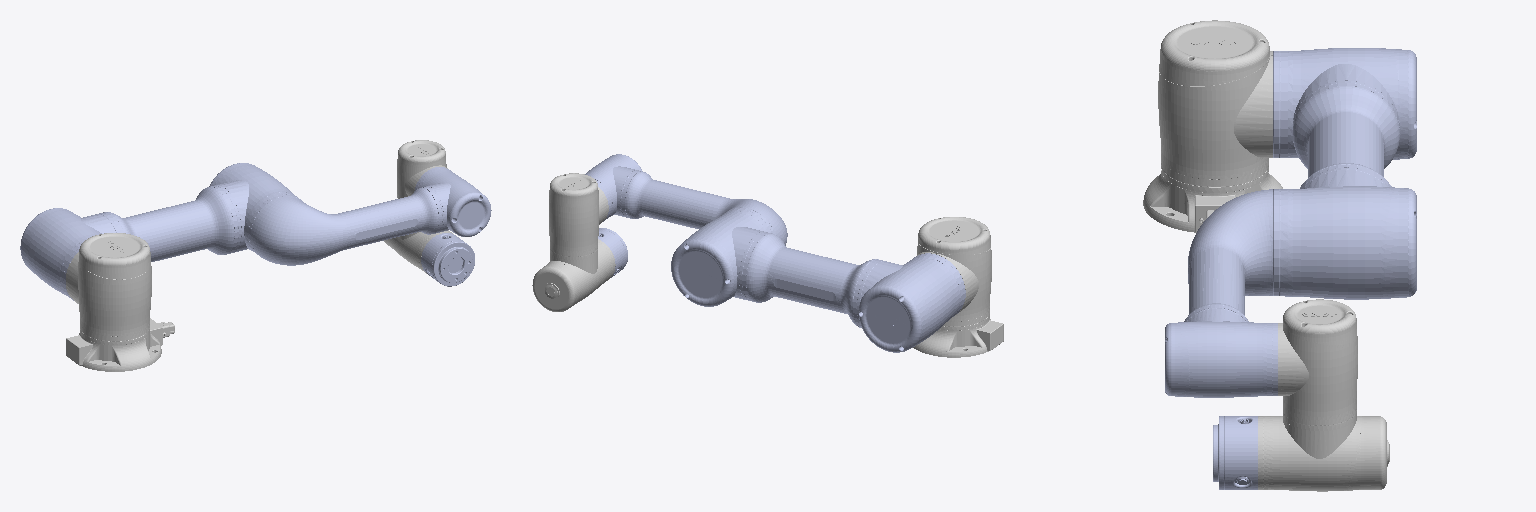
URDF robot description (jaka_s7):
<?xml version="1.0" encoding="utf-8"?>
<!-- This URDF was automatically created by SolidWorks to URDF Exporter! Originally created by [author] ([email redacted]) 
     Commit Version: 1.6.0-4-g7f85cfe  Build Version: 1.6.7995.38578
     For more information, please see http://wiki.ros.org/sw_urdf_exporter -->
<robot
  name="jaka_s7">

     <!-- LINK -->
  <link name="world" />

  <link
    name="Link_00">
    <inertial>
      <origin
        xyz="0.0028167 -0.00019454 0.019544"
        rpy="0 0 0" />
      <mass
        value="0.52663" />
      <!-- <inertia
        ixx="0.0006297"
        ixy="6.7091E-08"
        ixz="3.4682E-06"
        iyy="0.00095727"
        iyz="2.4476E-07"
        izz="0.0014514" /> -->
        <inertia ixx="0.0048763" ixy="-1.8056E-07" ixz="2.5196E-05" iyy="0.0068003" iyz="-1.7678E-09" izz="0.010618" />
    </inertial>
    
    <visual>
      <origin
        xyz="0 0 0"
        rpy="0 0 0" />
      <geometry>
        <mesh
          filename="package://jaka_description/meshes/jaka_s7_meshes/Link_00.STL" />
      </geometry>
      <material
        name="">
        <color
          rgba="0.84706 0.84706 0.84706 1" />
      </material>
    </visual>
    <collision>
      <origin
        xyz="0 0 0"
        rpy="0 0 0" />
      <geometry>
        <mesh
          filename="package://jaka_description/meshes/jaka_s7_meshes/Link_00.STL" />
      </geometry>
    </collision>
  </link>

  <link
    name="Link_01">
    <inertial>
      <origin
        xyz="-2.5186E-07 0.0033226 -0.001509"
        rpy="0 0 0" />
      <mass
        value="15.135" />
      <inertia ixx="0.044302" ixy="1.5349E-07" ixz="-6.1966E-07" iyy="0.043091" iyz="1.4326E-05" izz="0.030523" />
    </inertial> 
    
    <visual>
      <origin
        xyz="0 0 0"
        rpy="0 0 0" />
      <geometry>
        <mesh
          filename="package://jaka_description/meshes/jaka_s7_meshes/Link_01.STL" />
      </geometry>
      <material
        name="">
        <color
          rgba="0.84706 0.84706 0.84706 1" />
      </material>
    </visual>
    <collision>
      <origin
        xyz="0 0 0"
        rpy="0 0 0" />
      <geometry>
        <mesh
          filename="package://jaka_description/meshes/jaka_s7_meshes/Link_01.STL" />
      </geometry>
    </collision>
  </link>

  <link
    name="Link_02">
    <inertial>
      <origin
        xyz="5.5172E-08 0.18004 -0.14306"
        rpy="0 0 0" />
      <mass
        value="5.459" />
      <!-- <inertia
        ixx="0.14154"
        ixy="1.8956E-07"
        ixz="-1.8902E-08"
        iyy="0.012901"
        iyz="-9.5532E-06"
        izz="0.13805" /> -->
        <inertia ixx="0.1014" ixy="-1.1106E-06" ixz="-1.3363E-07" iyy="1.1119" iyz="2.9045E-08" izz="1.0844" />
    </inertial>
    
    <visual>
      <origin
        xyz="0 0 0"
        rpy="0 0 0" />
      <geometry>
        <mesh
          filename="package://jaka_description/meshes/jaka_s7_meshes/Link_02.STL" />
      </geometry>
      <material
        name="">
        <color
          rgba="0.79216 0.81961 0.93333 1" />
      </material>
    </visual>
    <collision>
      <origin
        xyz="0 0 0"
        rpy="0 0 0" />
      <geometry>
        <mesh
          filename="package://jaka_description/meshes/jaka_s7_meshes/Link_02.STL" />
      </geometry>
    </collision>
  </link>

  <link
    name="Link_03">
    <inertial>
      <origin
        xyz="3.9934E-07 0.15497 -0.012633"
        rpy="0 0 0" />
      <mass
        value="2.1077" />
      <!-- <inertia
        ixx="0.036078"
        ixy="4.7377E-07"
        ixz="1.3969E-08"
        iyy="0.0026619"
        iyz="-0.0023256"
        izz="0.035426" /> -->
      <inertia ixx="0.020968" ixy="-3.9001E-06" ixz="-0.018394" iyy="0.28365" iyz="-1.2859E-07" izz="0.27848" />
    </inertial>
    
    <visual>
      <origin
        xyz="0 0 0"
        rpy="0 0 0" />
      <geometry>
        <mesh
          filename="package://jaka_description/meshes/jaka_s7_meshes/Link_03.STL" />
      </geometry>
      <material
        name="">
        <color
          rgba="0.79216 0.81961 0.93333 1" />
      </material>
    </visual>
    <collision>
      <origin
        xyz="0 0 0"
        rpy="0 0 0" />
      <geometry>
        <mesh
          filename="package://jaka_description/meshes/jaka_s7_meshes/Link_03.STL" />
      </geometry>
    </collision>
  </link>

  <link
    name="Link_04">
    <inertial>
      <origin
        xyz="2.1366E-06 0.0058919 0.0026761"
        rpy="0 0 0" />
      <mass
        value="5.5436" />
      <!-- <inertia
        ixx="0.0092224"
        ixy="1.1405E-07"
        ixz="1.2691E-08"
        iyy="0.0052149"
        iyz="8.4855E-05"
        izz="0.0089344" /> -->
      <inertia ixx="0.0092564" ixy="1.1341E-07" ixz="-1.2578E-08" iyy="0.0052251" iyz="-8.3499E-05" izz="0.0089683" />
    </inertial>
    
    <visual>
      <origin
        xyz="0 0 0"
        rpy="0 0 0" />
      <geometry>
        <mesh
          filename="package://jaka_description/meshes/jaka_s7_meshes/Link_04.STL" />
      </geometry>
      <material
        name="">
        <color
          rgba="0.84706 0.84706 0.84706 1" />
      </material>
    </visual>
    <collision>
      <origin
        xyz="0 0 0"
        rpy="0 0 0" />
      <geometry>
        <mesh
          filename="package://jaka_description/meshes/jaka_s7_meshes/Link_04.STL" />
      </geometry>
    </collision>
  </link>
  
  <link
    name="Link_05">
    <inertial>
      <origin
        xyz="1.6838E-06 0.0024332 -0.0023568"
        rpy="0 0 0" />
      <mass
        value="0.80171" />
      <!-- <inertia
        ixx="0.0016264"
        ixy="3.8656E-09"
        ixz="-2.6908E-09"
        iyy="0.00073912"
        iyz="-4.9488E-06"
        izz="0.0015891" /> -->
      <inertia ixx="0.012993" ixy="-1.0764E-07" ixz="5.8559E-09" iyy="0.0058454" iyz="4.5426E-05" izz="0.0127" />
    </inertial>
    <visual>
      <origin
        xyz="0 0 0"
        rpy="0 0 0" />
      <geometry>
        <mesh
          filename="package://jaka_description/meshes/jaka_s7_meshes/Link_05.STL" />
      </geometry>
      <material
        name="">
        <color
          rgba="0.84706 0.84706 0.84706 1" />
      </material>
    </visual>
    <collision>
      <origin
        xyz="0 0 0"
        rpy="0 0 0" />
      <geometry>
        <mesh
          filename="package://jaka_description/meshes/jaka_s7_meshes/Link_05.STL" />
      </geometry>
    </collision>
  </link>

  <link
    name="Link_06">
    <inertial>
      <origin
        xyz="2.5274E-05 4.9755E-05 -0.025439"
        rpy="0 0 0" />
      <mass
        value="0.22282" />
      <!-- <inertia
        ixx="0.00012606"
        ixy="-6.8589E-08"
        ixz="-5.8199E-08"
        iyy="0.00012662"
        iyz="2.9533E-07"
        izz="0.00017841" /> -->
      <inertia ixx="0.00071853" ixy="-6.9778E-07" ixz="-6.378E-07" iyy="0.00072375" iyz="8.3072E-07" izz="0.0011337" />
    </inertial>
    <visual>
      <origin
        xyz="0 0 0"
        rpy="0 0 0" />
      <geometry>
        <mesh
          filename="package://jaka_description/meshes/jaka_s7_meshes/Link_06.STL" />
      </geometry>
      <material
        name="">
        <color
          rgba="0.79216 0.81961 0.93333 1" />
      </material>
    </visual>
    <collision>
      <origin
        xyz="0 0 0"
        rpy="0 0 0" />
      <geometry>
        <mesh
          filename="package://jaka_description/meshes/jaka_s7_meshes/Link_06.STL" />
      </geometry>
    </collision>
  </link>
  
  <!-- JOINT -->
  <joint name="fixed" type="fixed">
    <origin xyz="0 0.0002282 0" rpy="0 0 0" />
     <parent link="world"/>
     <child link="Link_00"/>
  </joint>

<joint
    name="joint_1"
    type="revolute">
    <origin
      xyz="0 -0.00022535 0.12015"
      rpy="0 0 0" />
    <parent
      link="Link_00" />
    <child
      link="Link_01" />
    <axis
      xyz="0 0 1" />
    <limit
      lower="-6.28"
      upper="6.28"
      effort="2000"
      velocity="3.14" />
  </joint>


  <joint
    name="joint_2"
    type="revolute">
    <origin
      xyz="0 0 0"
      rpy="1.5708 1.5708 0" />
    <parent
      link="Link_01" />
    <child
      link="Link_02" />
    <axis
      xyz="0 0 1" />
    <limit
      lower="-1.48"
      upper="4.62"
      effort="2000"
      velocity="3.14" />
  </joint>

  <joint
    name="joint_3"
    type="revolute">
    <origin
      xyz="0 0.36 0"
      rpy="0 0 0" />
    <parent
      link="Link_02" />
    <child
      link="Link_03" />
    <axis
      xyz="0 0 1" />
    <limit
      lower="-3.05"
      upper="3.05"
      effort="15000"
      velocity="3.14" />
  </joint>

  <joint
    name="joint_4"
    type="revolute">
    <origin
      xyz="0 0.3035 -0.11501"
      rpy="0 0 -1.5708" />
    <parent
      link="Link_03" />
    <child
      link="Link_04" />
    <axis
      xyz="0 0 1" />
    <limit
      lower="-1.48"
      upper="4.62"
      effort="1000"
      velocity="3.14" />
  </joint>

  <joint
    name="joint_5"
    type="revolute">
    <origin
      xyz="0 0.1135 0"
      rpy="-1.5708 0 0" />
    <parent
      link="Link_04" />
    <child
      link="Link_05" />
    <axis
      xyz="0 0 1" />
    <limit
      lower="-6.28"
      upper="6.28"
      effort="5000"
      velocity="3.14" />
  </joint>

  <joint
    name="joint_6"
    type="revolute">
    <origin
      xyz="0 -0.1175 0"
      rpy="1.5708 0 0" />
    <parent
      link="Link_05" />
    <child
      link="Link_06" />
    <axis
      xyz="0 0 1" />
    <limit
      lower="-6.28"
      upper="6.28"
      effort="1000"
      velocity="3.14" />
  </joint>

 <transmission name="trans_joint_1">
        <type>transmission_interface/SimpleTransmission</type>
        <joint name="joint_1">
            <hardwareInterface>hardware_interface/PositionJointInterface</hardwareInterface>
        </joint>
        <actuator name="joint_1_motor">
            <hardwareInterface>hardware_interface/PositionJointInterface</hardwareInterface>
            <mechanicalReduction>1</mechanicalReduction>
        </actuator>
    </transmission>
    <transmission name="trans_joint_2">
        <type>transmission_interface/SimpleTransmission</type>
        <joint name="joint_2">
            <hardwareInterface>hardware_interface/PositionJointInterface</hardwareInterface>
        </joint>
        <actuator name="joint_2_motor">
            <hardwareInterface>hardware_interface/PositionJointInterface</hardwareInterface>
            <mechanicalReduction>1</mechanicalReduction>
        </actuator>
    </transmission>
    <transmission name="trans_joint_3">
        <type>transmission_interface/SimpleTransmission</type>
        <joint name="joint_3">    
            <hardwareInterface>hardware_interface/PositionJointInterface</hardwareInterface>
        </joint>
        <actuator name="joint_3_motor">
            <hardwareInterface>hardware_interface/PositionJointInterface</hardwareInterface>
            <mechanicalReduction>1</mechanicalReduction>
        </actuator>
    </transmission>
    <transmission name="trans_joint_4">
        <type>transmission_interface/SimpleTransmission</type>
        <joint name="joint_4">
            <hardwareInterface>hardware_interface/PositionJointInterface</hardwareInterface>
        </joint>
        <actuator name="joint_4_motor">
            <hardwareInterface>hardware_interface/PositionJointInterface</hardwareInterface>
            <mechanicalReduction>1</mechanicalReduction>
        </actuator>
    </transmission>
    <transmission name="trans_joint_5">
        <type>transmission_interface/SimpleTransmission</type>
        <joint name="joint_5">
            <hardwareInterface>hardware_interface/PositionJointInterface</hardwareInterface>
        </joint>
        <actuator name="joint_5_motor">
            <hardwareInterface>hardware_interface/PositionJointInterface</hardwareInterface>
            <mechanicalReduction>1</mechanicalReduction>
        </actuator>
    </transmission>
    <transmission name="trans_joint_6">
        <type>transmission_interface/SimpleTransmission</type>
        <joint name="joint_6">
            <hardwareInterface>hardware_interface/PositionJointInterface</hardwareInterface>
        </joint>
        <actuator name="joint_6_motor">
            <hardwareInterface>hardware_interface/PositionJointInterface</hardwareInterface>
            <mechanicalReduction>1</mechanicalReduction>
        </actuator>
    </transmission>
    <gazebo>
        <plugin name="gazebo_ros_control" filename="libgazebo_ros_control.so">
            <robotNamespace>/</robotNamespace>
        </plugin>
    </gazebo>
</robot>

--- What the picture shows (computed from the rendered views, not written in the file) ---
3 views of the same robot in one strip: view 1: azimuth 30°, elevation 25°; view 2: azimuth 150°, elevation 25°; view 3: azimuth 270°, elevation 25° (orthographic).
Robot: jaka_s7 — 8 links, 7 joints (6 revolute, 1 fixed); root link world; default pose: every joint at zero.
Links seen in each view (by area): view 1: Link_02, Link_03, Link_01, Link_00, Link_06, Link_04, Link_05; view 2: Link_02, Link_03, Link_01, Link_04, Link_05, Link_00, Link_06; view 3: Link_02, Link_01, Link_03, Link_04, Link_05, Link_00, Link_06.
Boxes of the visible links, x1,y1,x2,y2 form: Link_02: [20, 163, 297, 300]; Link_03: [251, 167, 491, 265]; Link_01: [66, 233, 151, 344]; Link_00: [66, 318, 174, 371]; Link_06: [421, 233, 474, 286]; Link_04: [397, 140, 447, 198]; Link_05: [384, 230, 452, 273]; Link_02: [671, 208, 965, 352]; Link_03: [585, 154, 787, 245]; Link_01: [917, 217, 991, 330]; Link_04: [549, 173, 608, 259]; Link_05: [532, 239, 615, 311]; Link_00: [913, 318, 1003, 357]; Link_06: [598, 228, 627, 277]; Link_02: [1273, 48, 1416, 299]; Link_01: [1158, 20, 1272, 192]; Link_03: [1165, 189, 1277, 397]; Link_04: [1278, 299, 1357, 430]; Link_05: [1258, 416, 1389, 491]; Link_00: [1143, 170, 1282, 232]; Link_06: [1213, 416, 1257, 489].
Bounding box of the posed robot: 0.7877 × 0.3006 × 0.2332 m (x, y, z).
Meshes: 7 distinct files referenced, 7 mesh visuals loaded (7 binary STL).
